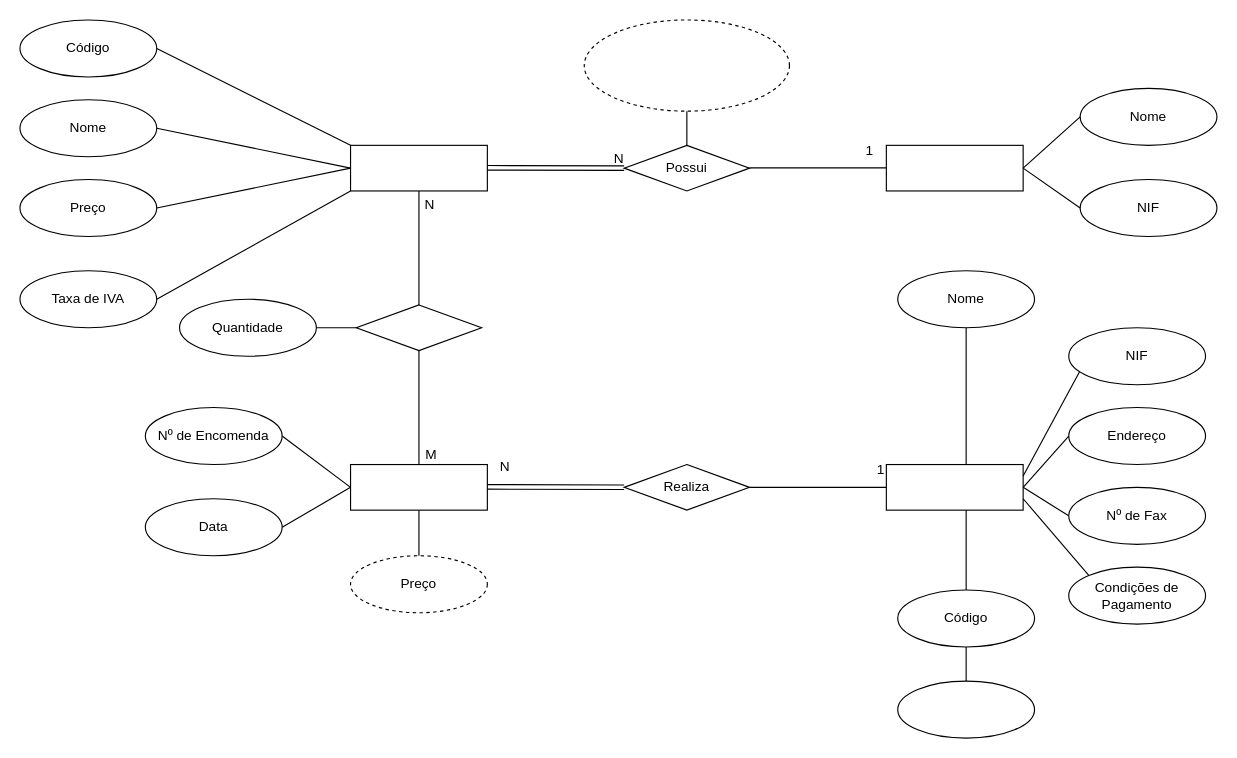
Image size: 1237x758. Some labels were removed from this diagram. The shapes that lost their labels are listed below. From the top down, each one's centre as x and y in pixels, then its label:
At (686,65): "número de unidades de cada produto em armazém".
At (418,167): "Produto".
At (954,167): "Empresa".
At (418,327): "Contém".
At (418,486): "Encomenda".
At (954,486): "Fornecedor".
At (966,709): "Designação".
